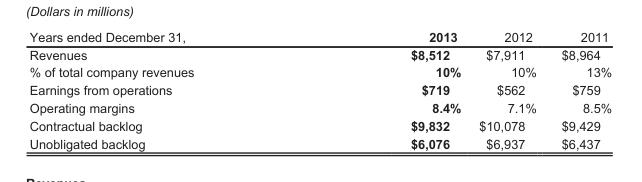table: (28, 29, 611, 150)
table column: (28, 29, 301, 150), (301, 29, 469, 150), (469, 29, 548, 150), (548, 29, 611, 150)
table column header: (28, 29, 611, 45)
table row: (28, 45, 611, 63), (28, 80, 611, 98), (28, 98, 611, 116), (28, 116, 611, 134), (28, 63, 611, 80), (28, 29, 611, 45), (28, 134, 611, 150)
